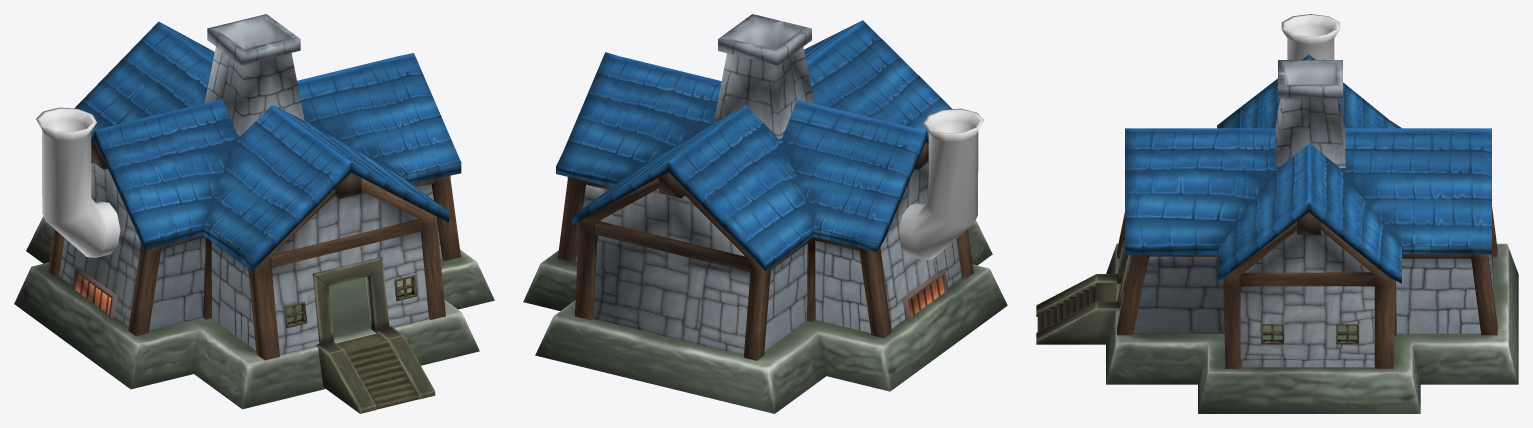
Rendered from Boss House 01.fbx.
The picture shows the model from 3 angles, left to right: view 1: azimuth 30°, elevation 25°; view 2: azimuth 150°, elevation 25°; view 3: azimuth 270°, elevation 25°; orthographic projection. The views are drawn at different scales.
Visible parts, largest first — view 1: Boss House 01; view 2: Boss House 01; view 3: Boss House 01.
Boxes of the visible parts, bbox=[...] form: Boss House 01: bbox=[14, 14, 494, 413]; Boss House 01: bbox=[523, 14, 1007, 413]; Boss House 01: bbox=[1036, 14, 1518, 413].
Size of the model in its own units: 17.54 by 11.37 by 19.43.
Materials: 2 (1 with a texture image).
